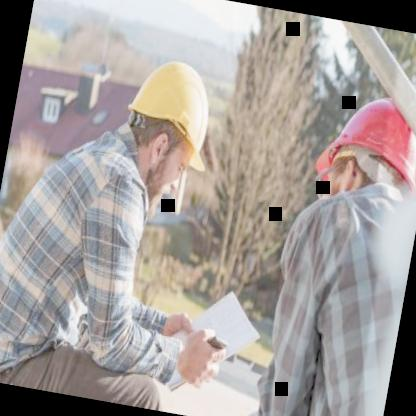helmet: (292, 67, 416, 253), (112, 46, 224, 214)
